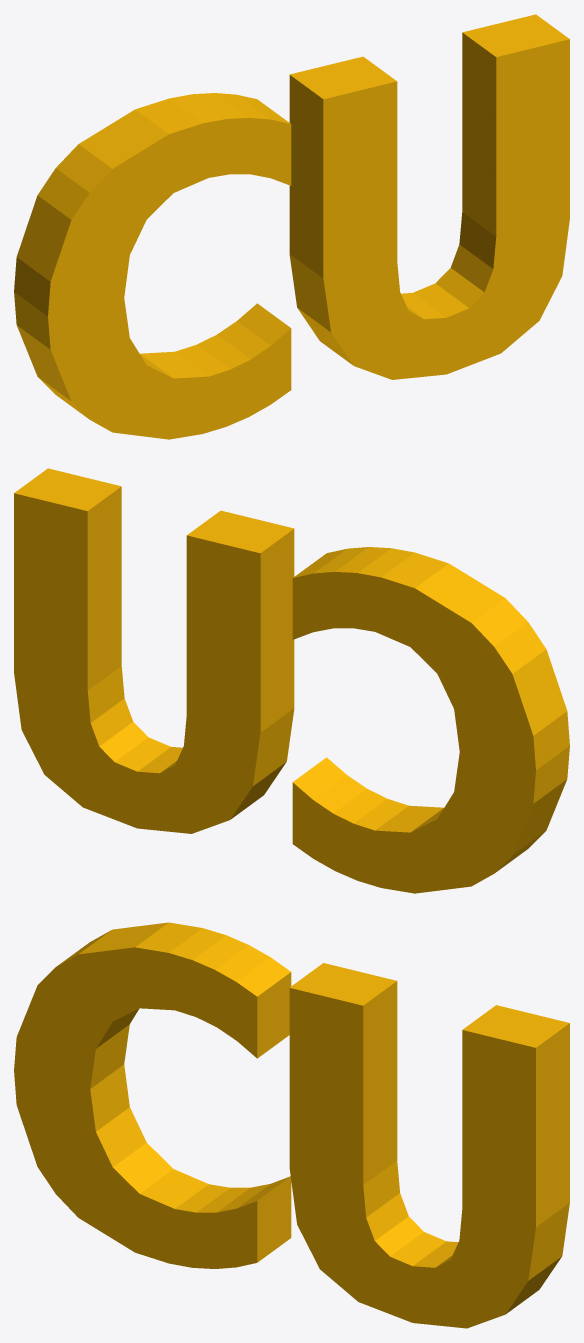
The model's file is suku_besar_cu.glb.
3 renders of one model, top to bottom at view 1: azimuth 30°, elevation 25°; view 2: azimuth 150°, elevation 25°; view 3: azimuth 330°, elevation 25°, orthographic.
Parts seen in each view (by area): view 1: geometry_0; view 2: geometry_0; view 3: geometry_0.
Part boxes in pixels (x1,y1,x2,y2): geometry_0: [14, 14, 569, 439]; geometry_0: [14, 468, 569, 893]; geometry_0: [14, 922, 569, 1328].
Size of the model in its own units: 13.3 by 7.56 by 1.5.
